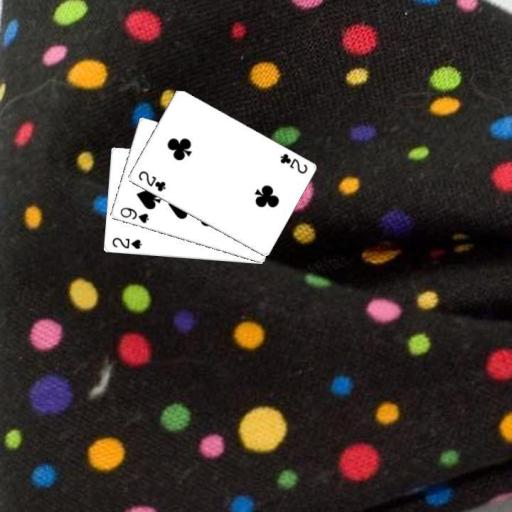2C: (277, 150, 309, 176), (135, 168, 167, 193)
2S: (109, 235, 143, 251)
9S: (117, 204, 150, 225)
